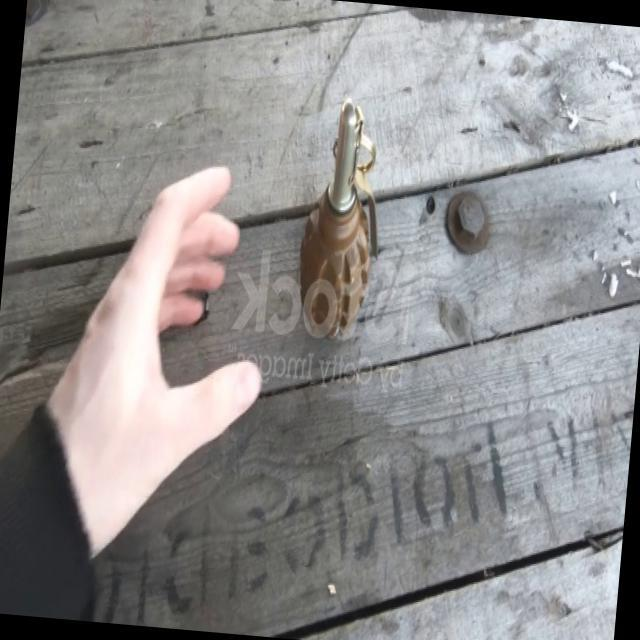grenade: (296, 98, 390, 342)
